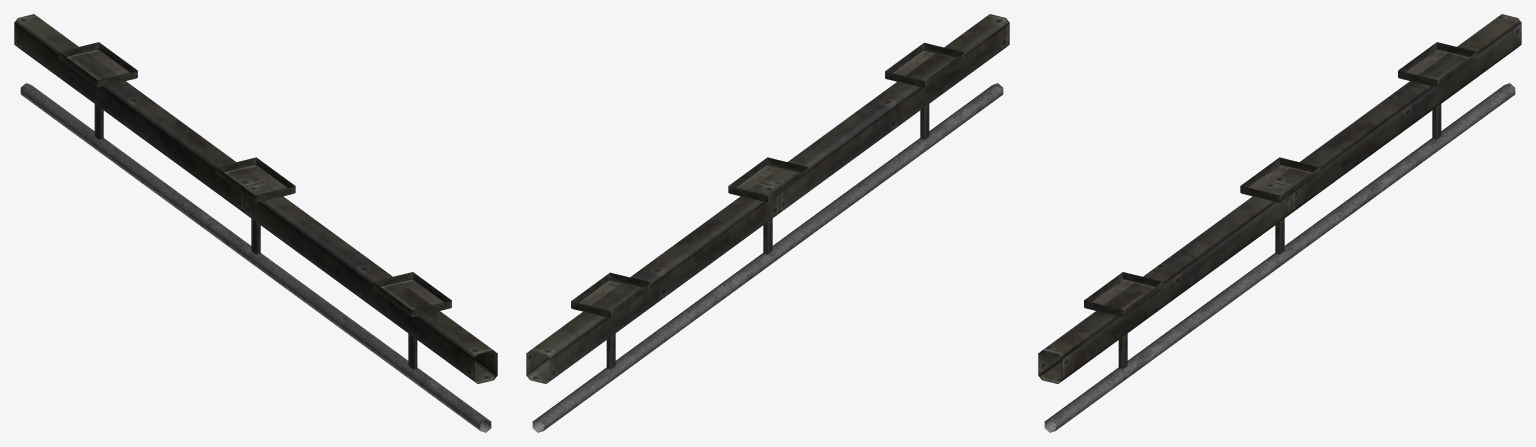
Rendered from railing_ceiling_straight_long.dae.
The picture shows the model from 3 angles, left to right: view 1: azimuth 30°, elevation 25°; view 2: azimuth 150°, elevation 25°; view 3: azimuth 330°, elevation 25°; orthographic projection.
Parts seen in each view (by area): view 1: polySurface636, polySurface622; view 2: polySurface636, polySurface622; view 3: polySurface636, polySurface622.
Boxes of the visible parts, x1=… form: polySurface636: x1=14, y1=14, x2=497, y2=383; polySurface622: x1=20, y1=83, x2=491, y2=432; polySurface636: x1=526, y1=14, x2=1009, y2=383; polySurface622: x1=532, y1=83, x2=1003, y2=432; polySurface636: x1=1038, y1=14, x2=1521, y2=383; polySurface622: x1=1044, y1=83, x2=1515, y2=432.
Size of the model in its own units: 0.4015 by 0.8463 by 8.
